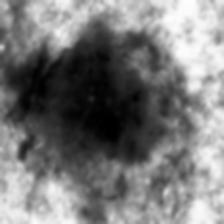Potentially Malignant Skin Tumors: (6, 35, 178, 177)
